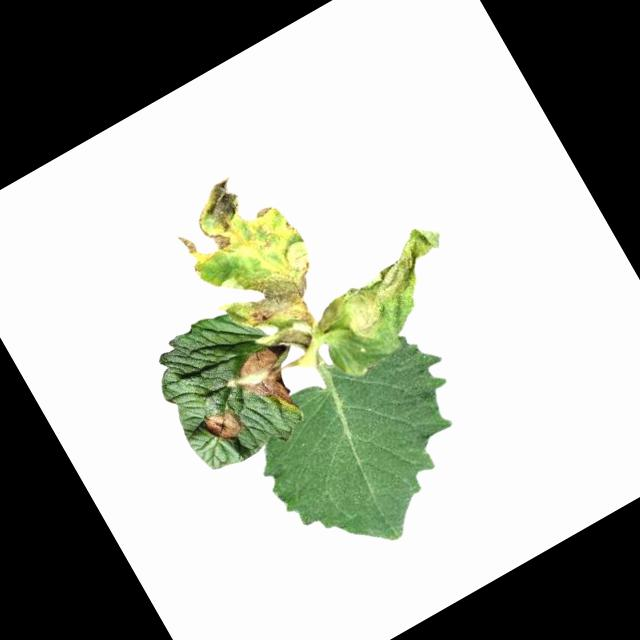Late_blight: (295, 217, 478, 377), (182, 158, 302, 279), (221, 247, 339, 358), (226, 332, 320, 428), (171, 227, 216, 280), (198, 403, 243, 448)
healthy: (234, 317, 509, 582)
